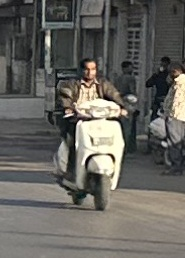BikeWithRider: (46, 54, 140, 213)
NoHelmet: (73, 55, 103, 82)
